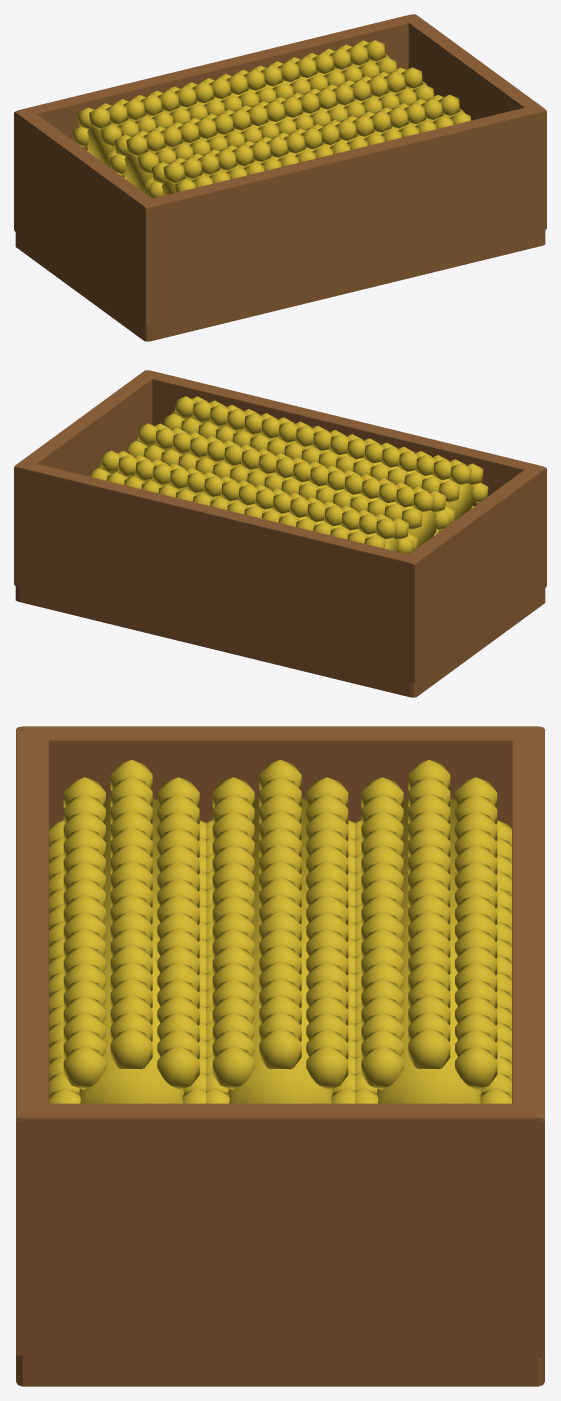
3 views of the same model, one above another, from view 1: azimuth 30°, elevation 25°; view 2: azimuth 150°, elevation 25°; view 3: azimuth 270°, elevation 25° (orthographic). The views are drawn at different scales.
Parts seen in each view (by area): view 1: TI047 / crate side, TI047 / crate end, TI047 / crate floor, TI047 / crate side.001, TI047 / crate end.001, TI047 / corn core.001, TI047 / corn core.002, TI047 / corn core; view 2: TI047 / crate side.001, TI047 / crate end, TI047 / crate floor, TI047 / crate side, TI047 / crate end.001, TI047 / corn core.001, TI047 / corn core, TI047 / corn core.002; view 3: TI047 / crate end.001, TI047 / crate end, TI047 / crate floor, TI047 / crate side.001, TI047 / crate side, TI047 / corn core.001, TI047 / corn core, TI047 / corn core.002, TI047 / individual corn kernel.130, TI047 / individual corn kernel.402, TI047 / individual corn kernel.266, TI047 / individual corn kernel.129 (+5 smaller).
Boxes of the visible parts, x1,y1,x2,y2 form: TI047 / crate side: [144, 105, 546, 326]; TI047 / crate end: [14, 111, 160, 326]; TI047 / crate floor: [15, 219, 545, 341]; TI047 / crate side.001: [14, 14, 414, 230]; TI047 / crate end.001: [403, 14, 546, 231]; TI047 / corn core.001: [124, 81, 427, 192]; TI047 / corn core.002: [87, 54, 390, 164]; TI047 / corn core: [162, 109, 464, 195]; TI047 / crate side.001: [14, 461, 422, 682]; TI047 / crate end: [400, 467, 546, 682]; TI047 / crate floor: [15, 572, 545, 697]; TI047 / crate side: [146, 370, 546, 586]; TI047 / crate end.001: [14, 370, 157, 587]; TI047 / corn core.001: [133, 437, 436, 548]; TI047 / corn core: [170, 410, 473, 520]; TI047 / corn core.002: [96, 465, 398, 551]; TI047 / crate end.001: [16, 1103, 544, 1356]; TI047 / crate end: [17, 726, 543, 828]; TI047 / crate floor: [16, 1328, 544, 1386]; TI047 / crate side.001: [512, 728, 544, 1354]; TI047 / crate side: [16, 728, 48, 1354]; TI047 / corn core.001: [228, 798, 332, 1103]; TI047 / corn core: [79, 798, 183, 1103]; TI047 / corn core.002: [377, 798, 481, 1103]; TI047 / individual corn kernel.130: [110, 1028, 152, 1069]; TI047 / individual corn kernel.402: [408, 1028, 450, 1069]; TI047 / individual corn kernel.266: [259, 1028, 301, 1069]; TI047 / individual corn kernel.129: [157, 1045, 199, 1089].
Bounding box in the file's own units: 2.8 × 0.975 × 1.6.
